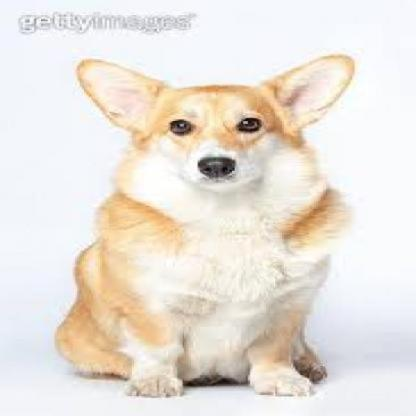dog: (54, 52, 356, 398)
